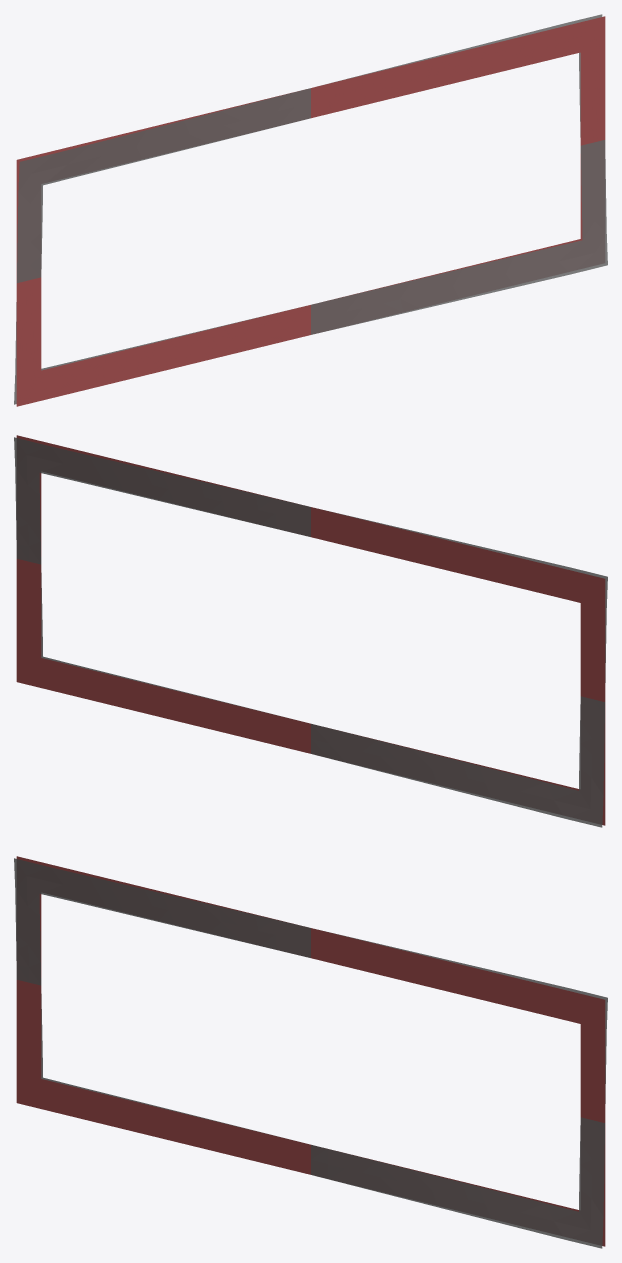
The model's file is warping-box-77-192-9-8-216.glb.
The picture shows the model from 3 angles, top to bottom: view 1: azimuth 30°, elevation 25°; view 2: azimuth 150°, elevation 25°; view 3: azimuth 330°, elevation 25°; orthographic projection.
Parts seen in each view (by area): view 1: undeformed cross-section, cross-section with warping; view 2: undeformed cross-section, cross-section with warping; view 3: undeformed cross-section, cross-section with warping.
Boxes of the visible parts, x1=… form: undeformed cross-section: x1=16, y1=16, x2=605, y2=406; cross-section with warping: x1=14, y1=14, x2=607, y2=404; undeformed cross-section: x1=16, y1=435, x2=605, y2=825; cross-section with warping: x1=14, y1=437, x2=607, y2=827; undeformed cross-section: x1=16, y1=856, x2=605, y2=1246; cross-section with warping: x1=14, y1=858, x2=607, y2=1248.
Bounding box in the file's own units: 0.192 × 0.077 × 0.00332.
